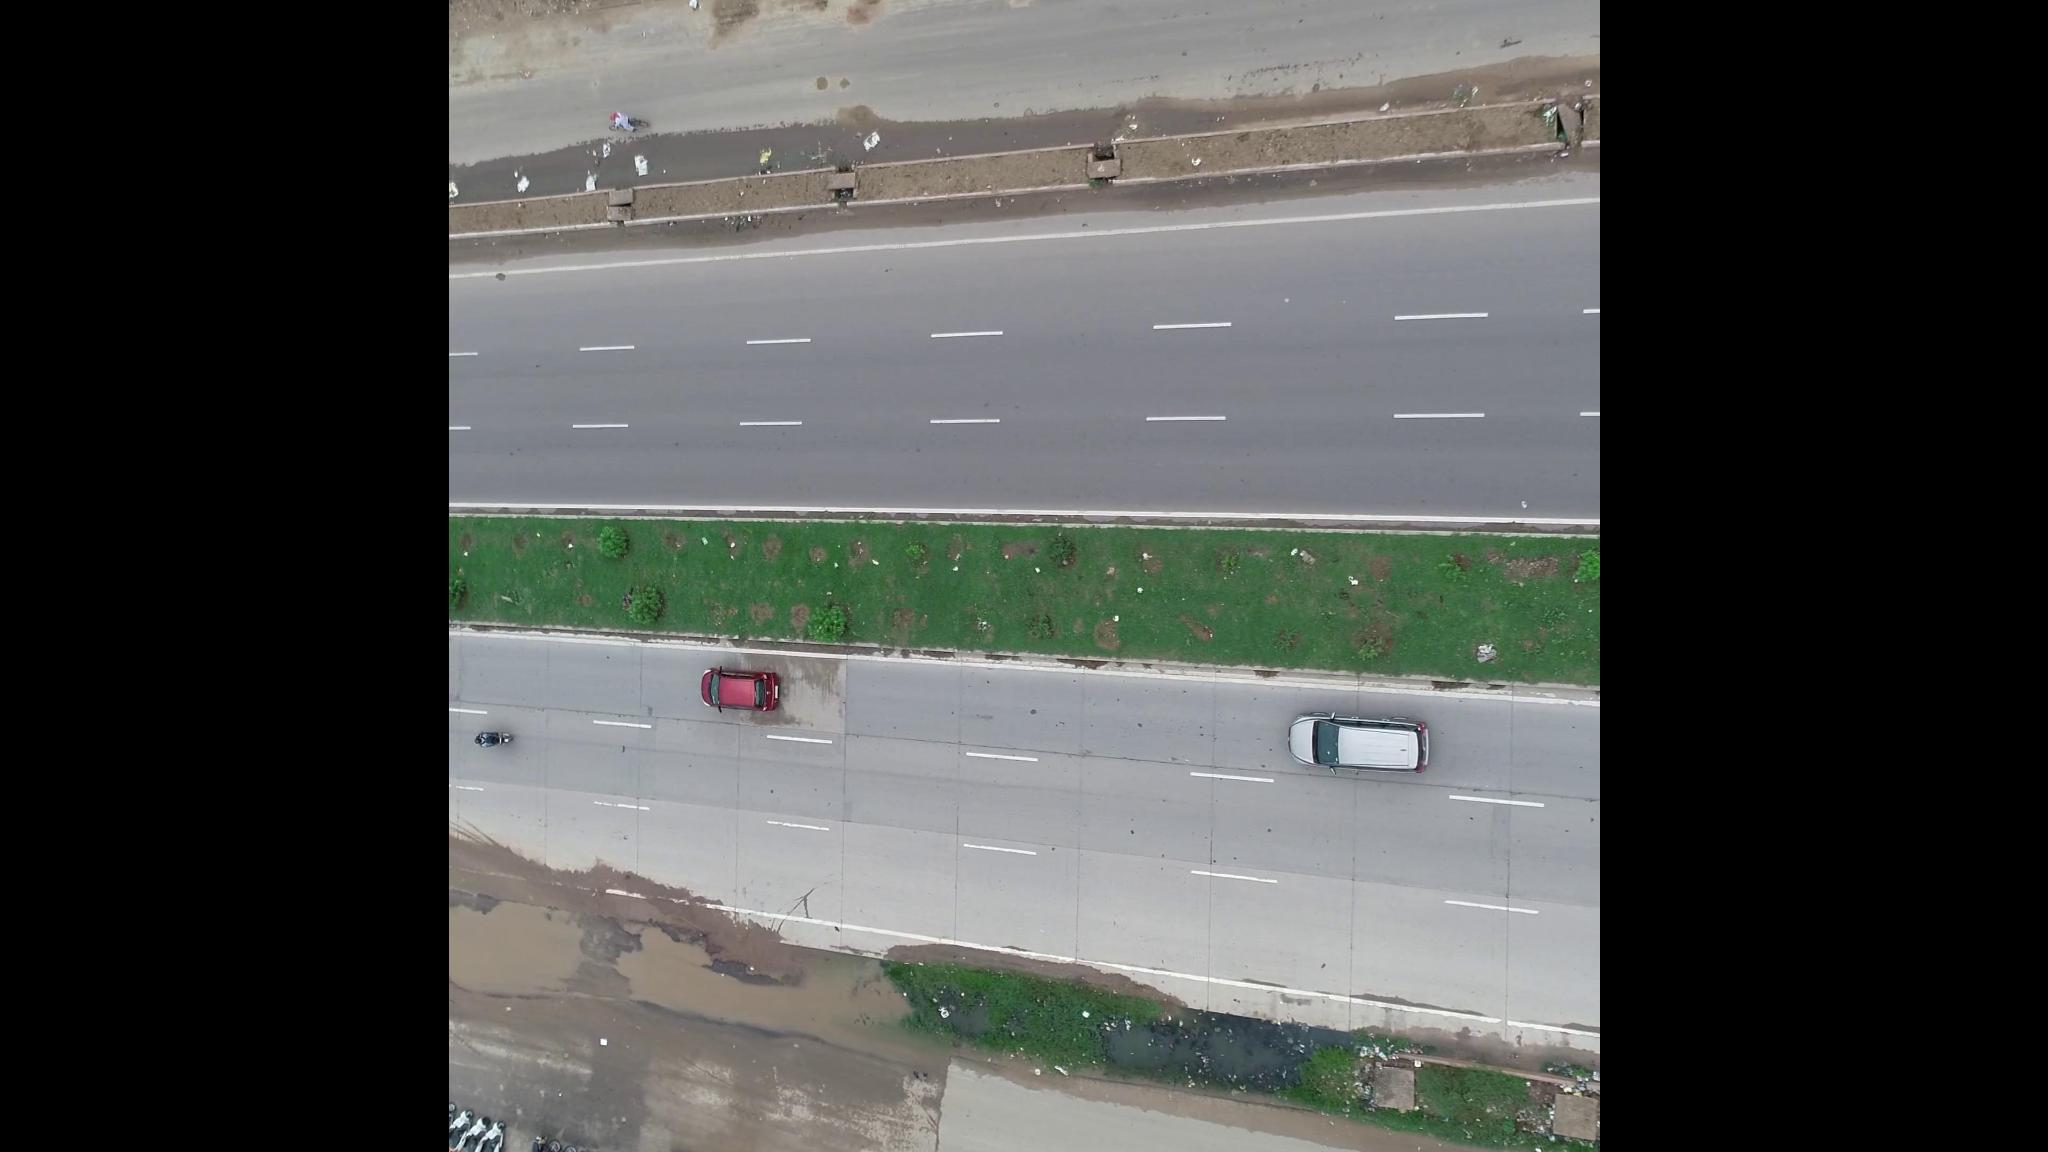Waterlogging: (613, 917, 896, 1066)
